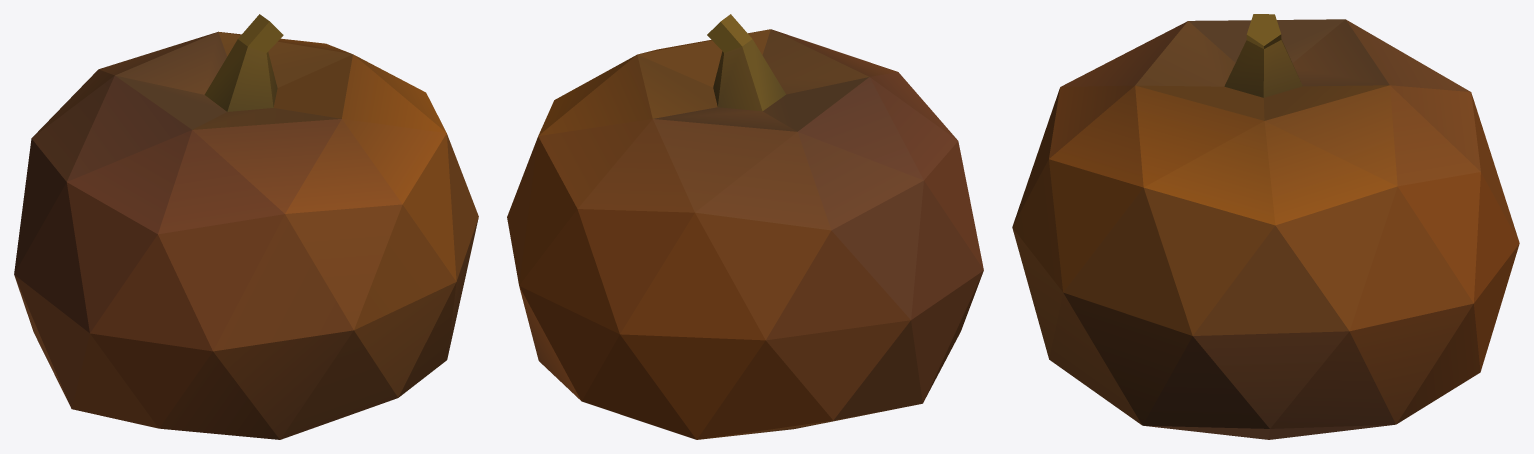
Rendered from Food_Pumpkin.fbx.
3 views of the same model, side by side, from view 1: azimuth 30°, elevation 25°; view 2: azimuth 150°, elevation 25°; view 3: azimuth 270°, elevation 25° (orthographic). The views are drawn at different scales.
Parts seen in each view (by area): view 1: Food_Pumpkin; view 2: Food_Pumpkin; view 3: Food_Pumpkin.
Boxes of the visible parts, x1,y1,x2,y2 form: Food_Pumpkin: (14,14,478,439); Food_Pumpkin: (507,14,983,439); Food_Pumpkin: (1012,14,1519,439).
Size of the model in its own units: 37.66 by 32.47 by 39.47.
